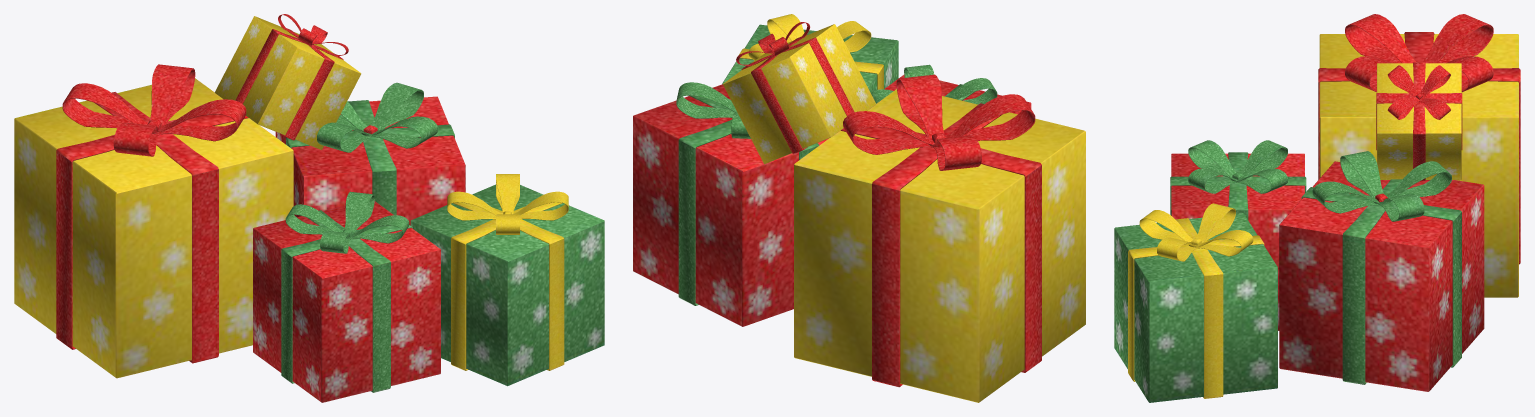
3 renders of one model, left to right at view 1: azimuth 30°, elevation 25°; view 2: azimuth 150°, elevation 25°; view 3: azimuth 270°, elevation 25°, orthographic. The views are drawn at different scales.
Visible parts, largest first — view 1: U3DMesh; view 2: U3DMesh; view 3: U3DMesh.
Boxes of the visible parts, x1=… form: U3DMesh: x1=14, y1=14, x2=604, y2=402; U3DMesh: x1=633, y1=14, x2=1085, y2=402; U3DMesh: x1=1114, y1=14, x2=1520, y2=402.
Size of the model in its own units: 0.8831 by 0.562 by 0.796.
Materials: 1 (1 with a texture image).
